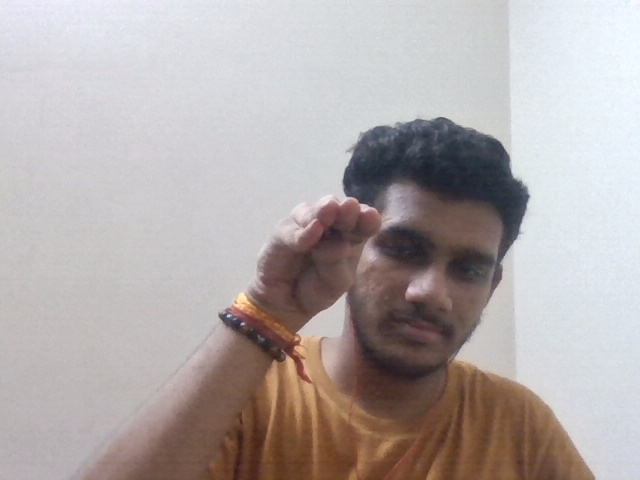no: (253, 189, 396, 327)
